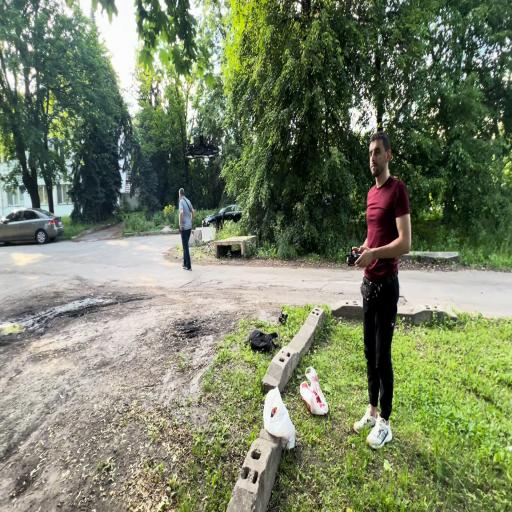drone: (184, 134, 220, 157)
